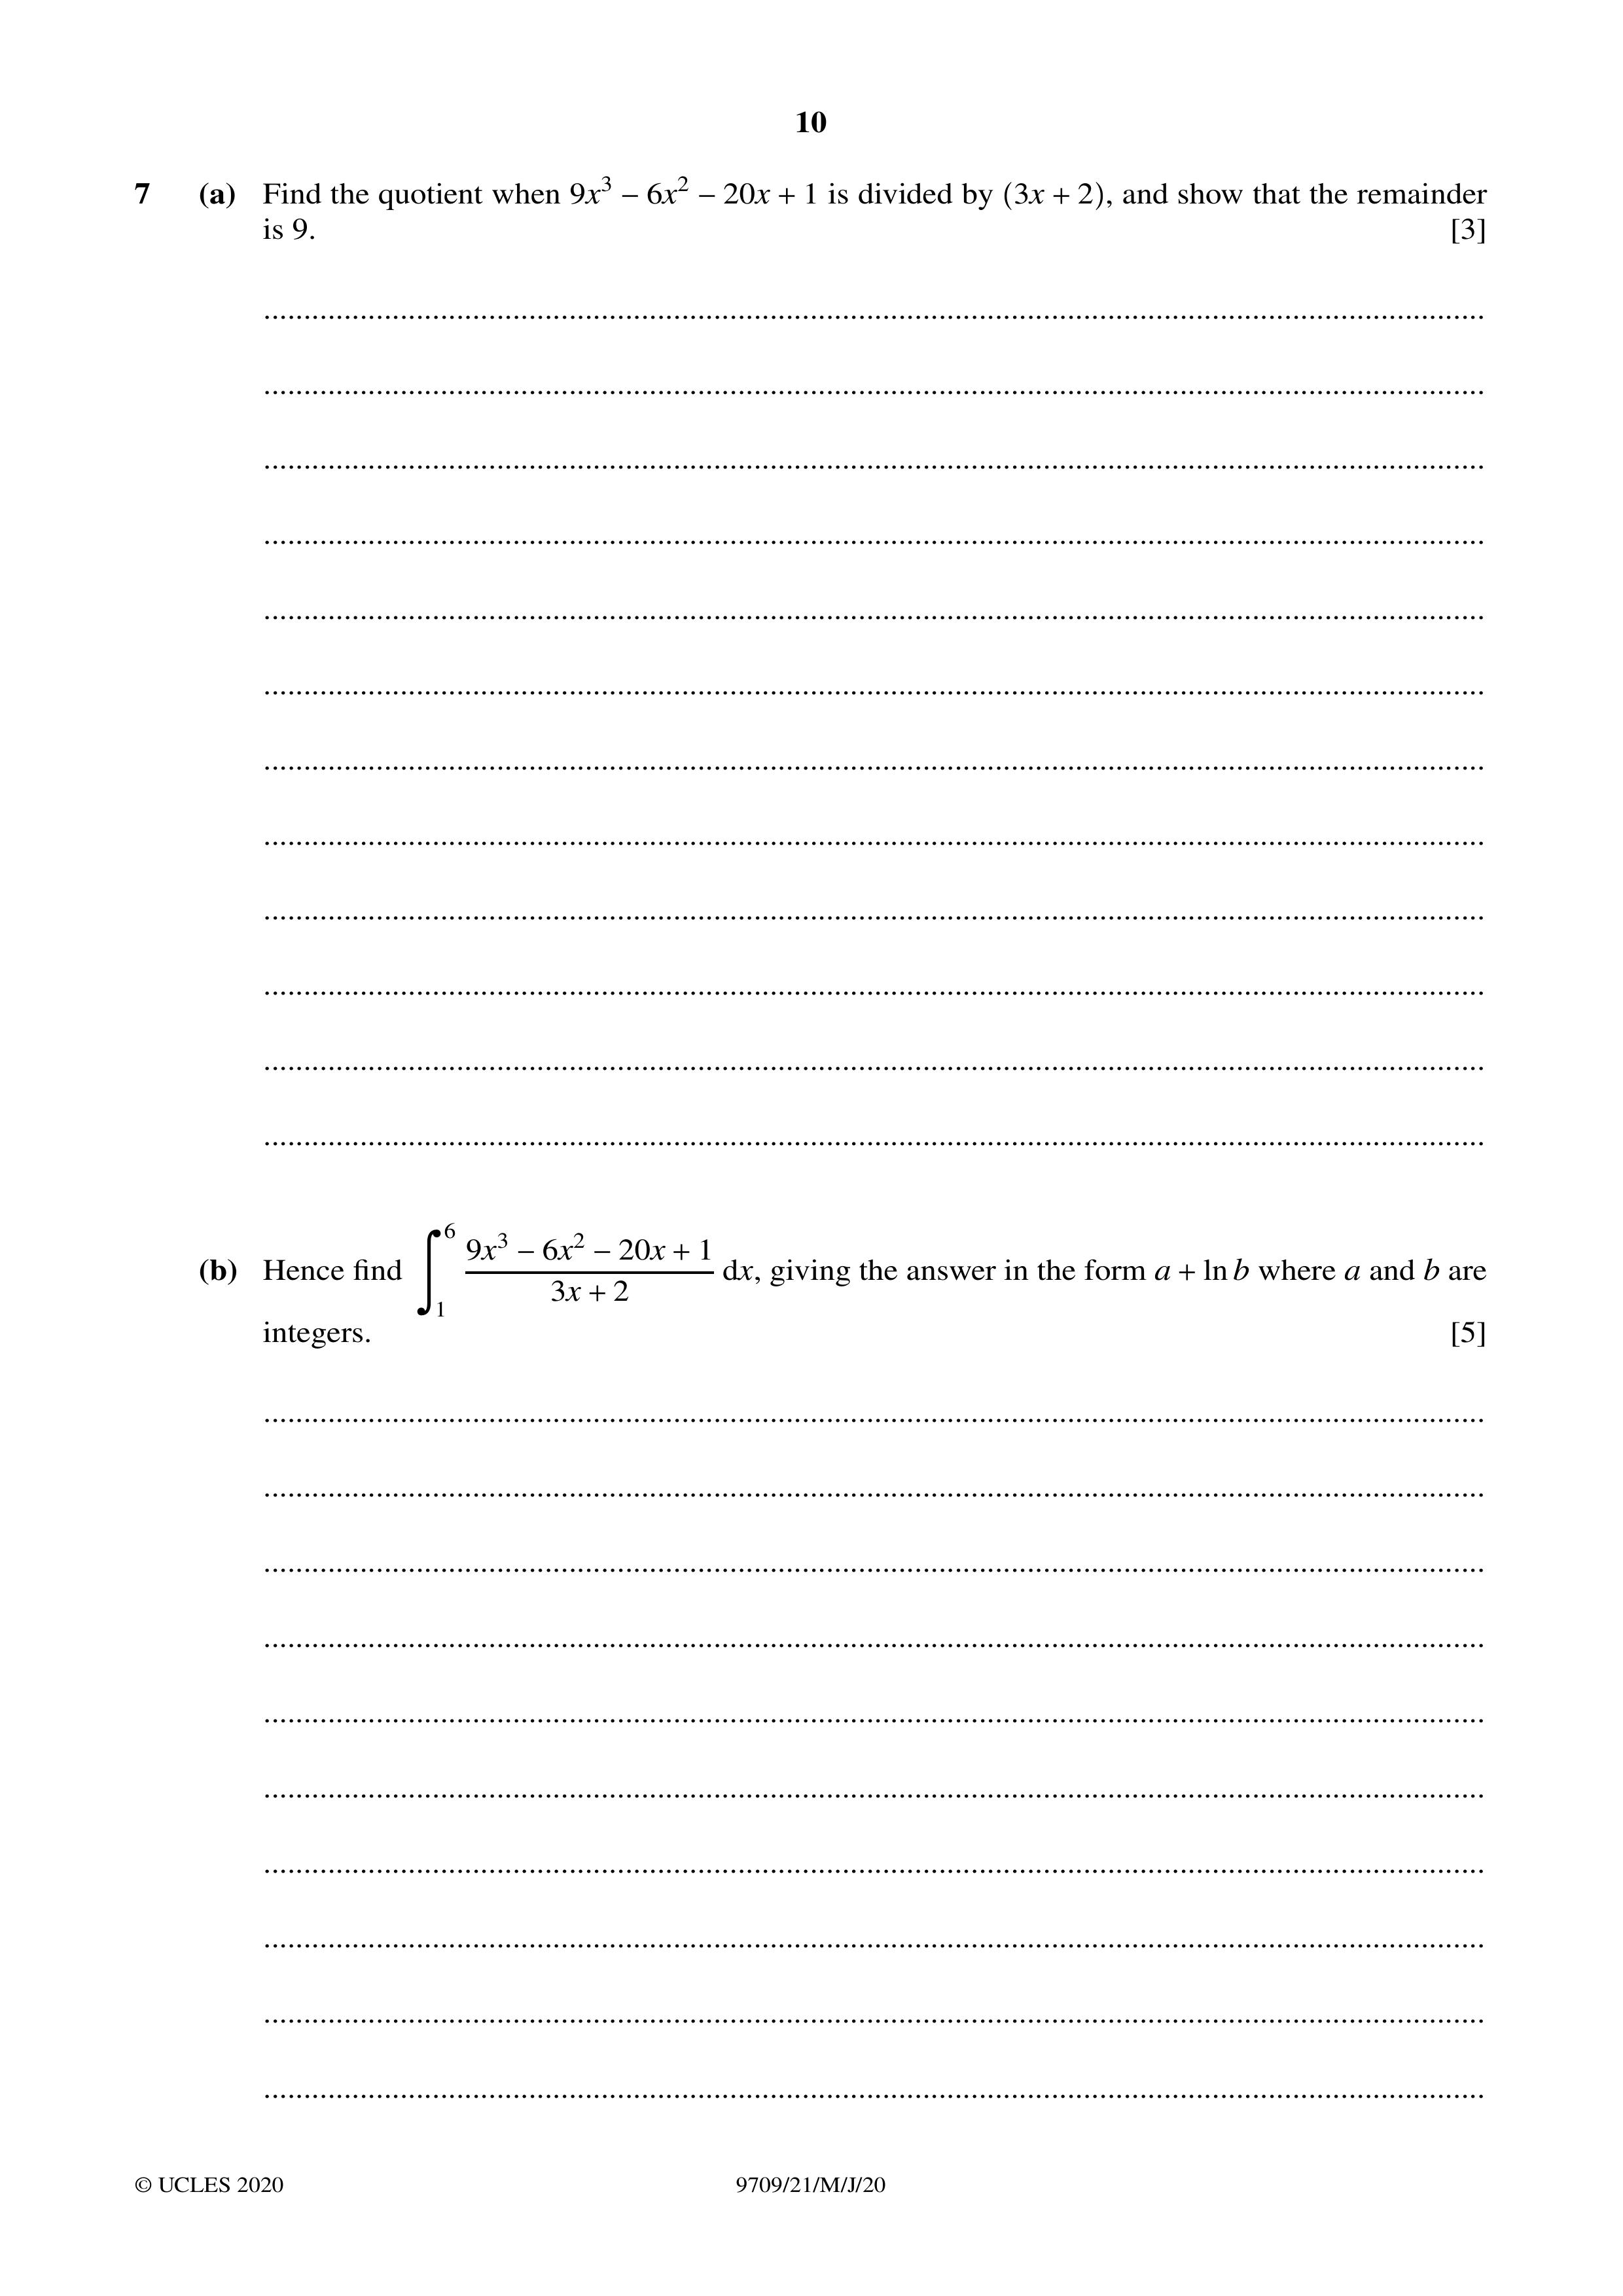question: (142, 1171, 1516, 1392), (107, 151, 1516, 297)
